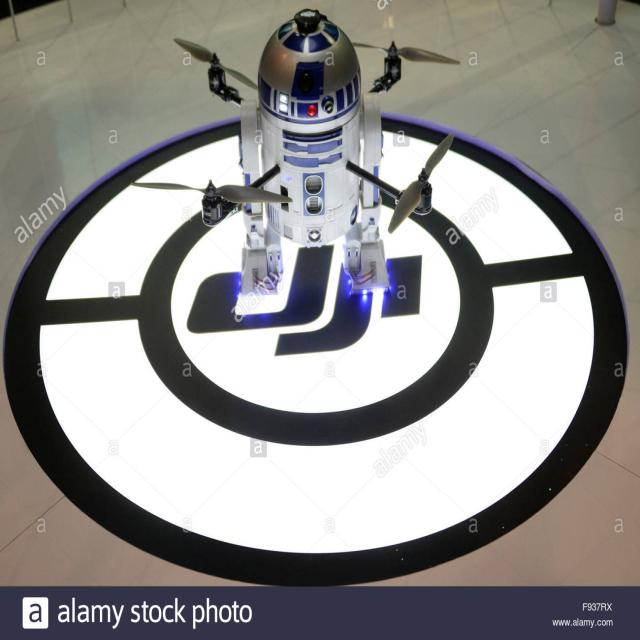drone: (151, 23, 466, 288)
